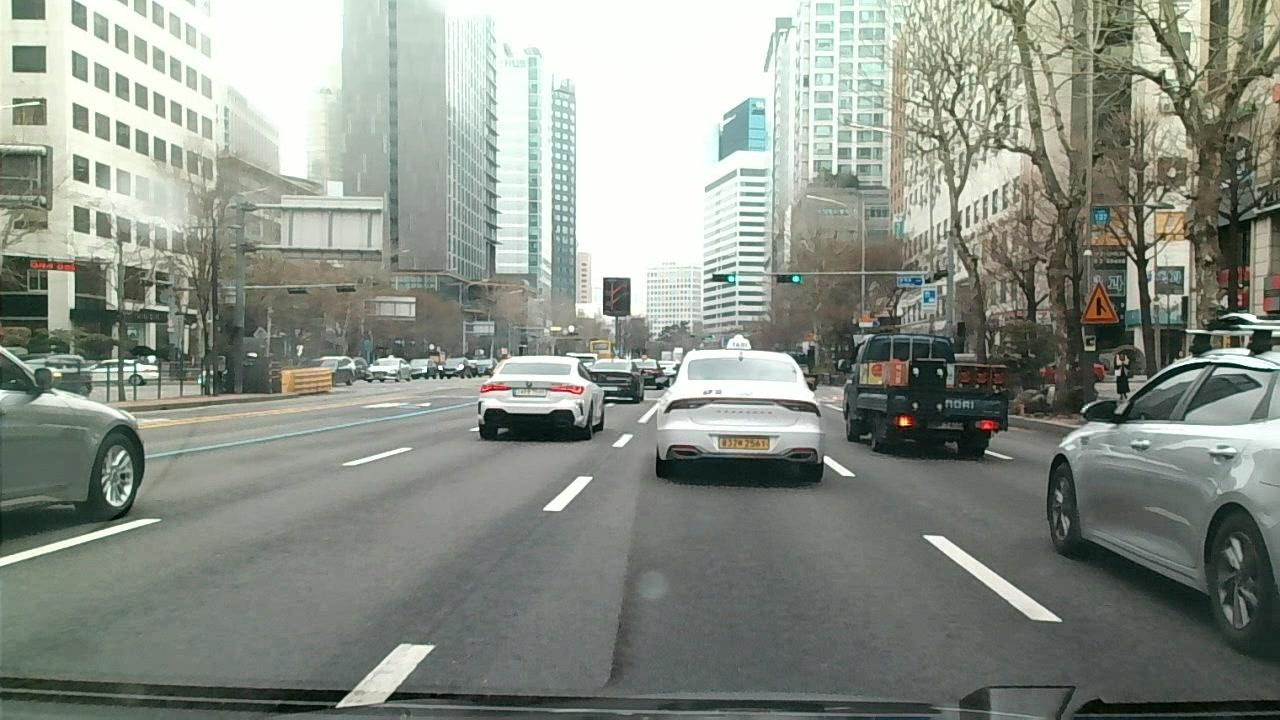vcrack: (594, 545, 637, 691)
